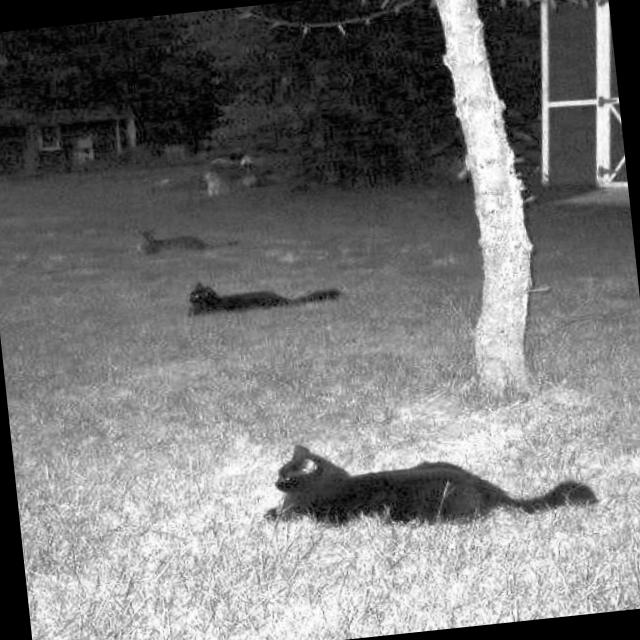Cat: (256, 413, 600, 538), (182, 265, 348, 324)
Tree: (426, 0, 549, 402)
